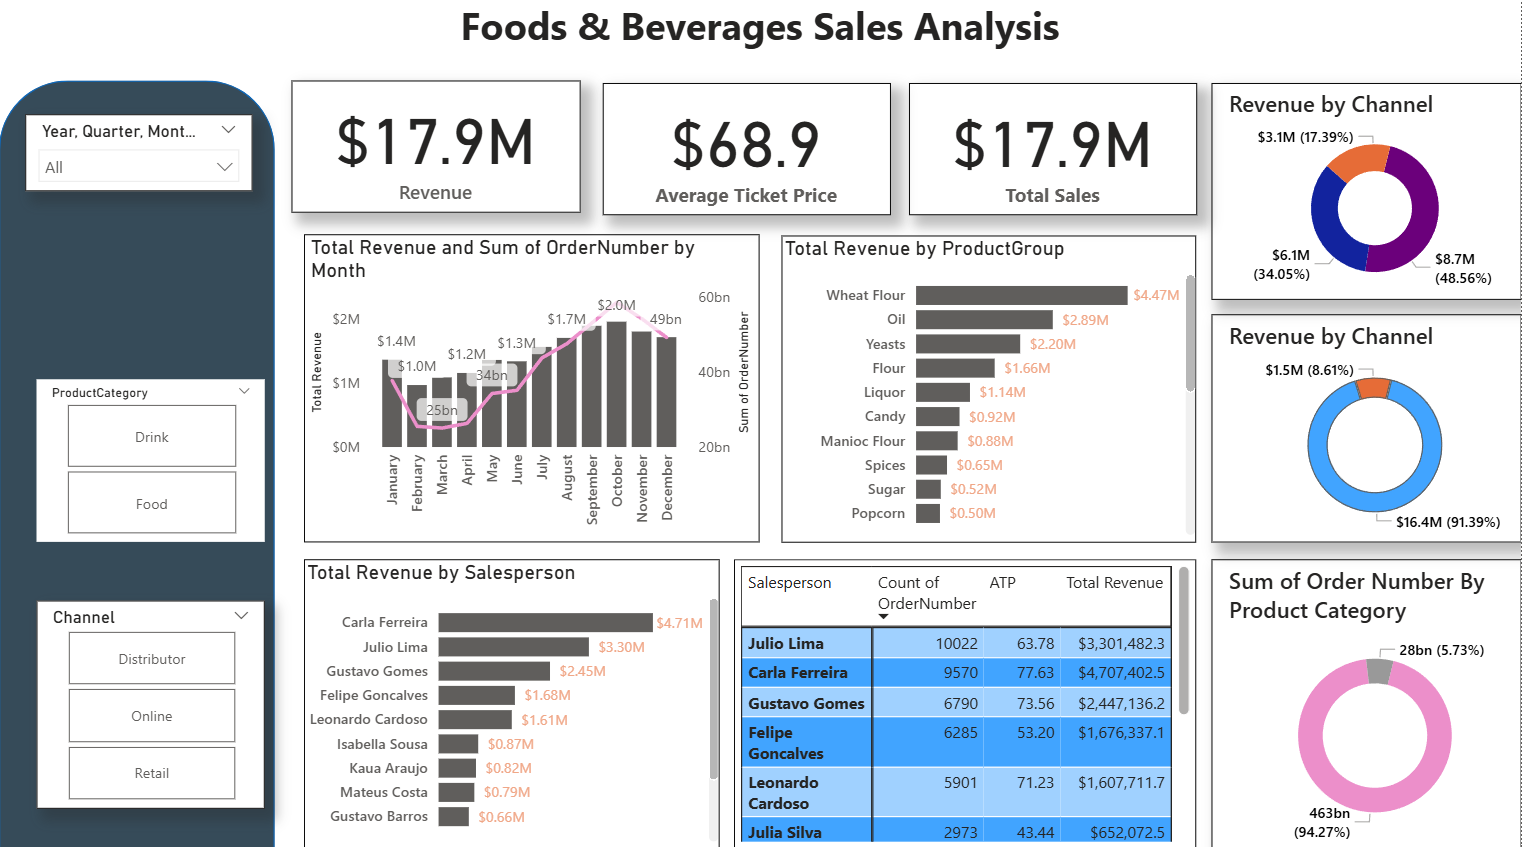

What the dashboard file says about the page in this screenshot:
{"tool":"powerbi","page":{"name":"Report","canvas":[1280,720],"ordinal":0},"visuals":[{"type":"textbox","box":[0,0,1280.3,74.1],"z":1000},{"type":"card","fields":{"Values":["SalesData.Total Revenue"]},"box":[245.6,74.1,242.9,111.1],"z":2000},{"type":"card","fields":{"Values":["SalesData.Average Ticket Price"]},"box":[507.7,75.5,242,111.1],"z":3000},{"type":"card","fields":{"Values":["SalesData.Total Revenue"]},"box":[765.7,75.5,242,111.1],"z":4000},{"type":"donutChart","title":"Revenue by Channel","fields":{"Category":["SalesData.Channel"],"Y":["SalesData.Total Revenue"]},"box":[1019.8,75.6,260.5,182.6],"z":5000},{"type":"donutChart","title":"Revenue by Channel","fields":{"Y":["SalesData.Total Revenue"],"Category":["Product.ProductCategory"]},"box":[1019.8,269.8,260.5,191.9],"z":6000},{"type":"donutChart","title":"Sum of Order Number By Product Category","fields":{"Y":["SalesData.OrderNumber"],"Category":["Product.ProductCategory"]},"box":[1019.4,476.7,260.6,243.8],"z":7000},{"type":"clusteredBarChart","fields":{"Category":["Product.ProductGroup"],"Y":["SalesData.Total Revenue"]},"box":[658.1,203.5,348.8,258.1],"z":8000},{"type":"lineStackedColumnComboChart","fields":{"Y2":["SalesData.OrderNumber"],"Category":["SalesData.OrderDate.Variation.Date Hierarchy.Month"],"Y":["SalesData.Total Revenue"]},"box":[257,202.9,383,259.4],"z":9000},{"type":"clusteredBarChart","fields":{"Y":["SalesData.Total Revenue"],"Category":["SalesData.Salesperson"]},"box":[257,476.7,349.4,243.8],"z":10000},{"type":"shape","box":[0,74.1,231.9,826.1],"z":10500,"group":"g1"},{"type":"pivotTable","fields":{"Rows":["SalesData.Salesperson"],"Values":["SalesData.OrderNumber","SalesData.ATP","SalesData.Total Revenue"]},"box":[618.4,476.7,389,243.8],"z":11000},{"type":"slicer","fields":{"Values":["Product.ProductCategory"]},"box":[31.2,325.4,192.1,136.9],"z":12000,"group":"g1"},{"type":"slicer","fields":{"Values":["SalesData.Channel"]},"box":[31.2,511.5,192.1,175.3],"z":13000,"group":"g1"},{"type":"slicer","fields":{"Values":["SalesData.OrderDate.Variation.Date Hierarchy.Year","SalesData.OrderDate.Variation.Date Hierarchy.Quarter","SalesData.OrderDate.Variation.Date Hierarchy.Month","SalesData.OrderDate.Variation.Date Hierarchy.Day"]},"box":[21.6,102.1,190.9,64.8],"z":16500,"group":"g1"},{"type":"group","id":"g1","title":"Group 1","box":[0,74.1,231.9,826.1],"z":16501}]}

Visuals, with their boxes in screenshot pixels (x1, y1, x2, y2), scaled from the page's 1280x720 canvas onto the 1522x847 screenshot:
textbox: 0/0/1521/87
card - SalesData.Total Revenue: 292/87/581/218
card - SalesData.Average Ticket Price: 604/89/891/220
card - SalesData.Total Revenue: 910/89/1198/220
"Revenue by Channel" donutChart: 1213/89/1521/304
"Revenue by Channel" donutChart: 1213/317/1521/543
"Sum of Order Number By Product Category" donutChart: 1212/561/1521/846
clusteredBarChart - Product.ProductGroup x SalesData.Total Revenue: 783/239/1197/543
lineStackedColumnComboChart - SalesData.OrderNumber x SalesData.OrderDate.Variation.Date Hierarchy.Month: 306/239/761/544
clusteredBarChart - SalesData.Total Revenue x SalesData.Salesperson: 306/561/721/846
shape: 0/87/276/846
pivotTable - SalesData.Salesperson x SalesData.OrderNumber: 735/561/1198/846
slicer - Product.ProductCategory: 37/383/266/544
slicer - SalesData.Channel: 37/602/266/808
slicer - SalesData.OrderDate.Variation.Date Hierarchy.Year x SalesData.OrderDate.Variation.Date Hierarchy.Quarter: 26/120/253/196
"Group 1" group: 0/87/276/846
